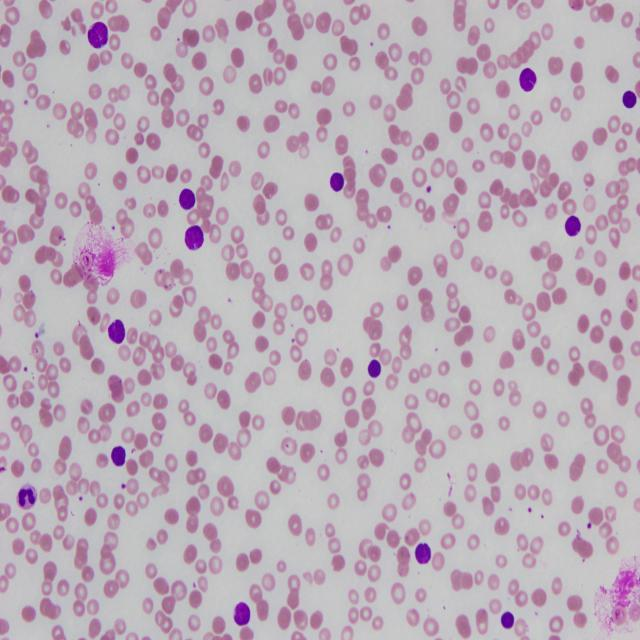cell: (185, 225, 204, 250), (18, 485, 38, 508), (519, 68, 536, 92), (108, 320, 125, 343), (234, 602, 250, 625), (565, 215, 581, 237), (179, 188, 195, 210), (415, 543, 431, 563), (111, 447, 126, 467), (330, 172, 344, 192), (622, 90, 636, 108), (501, 612, 514, 628)
